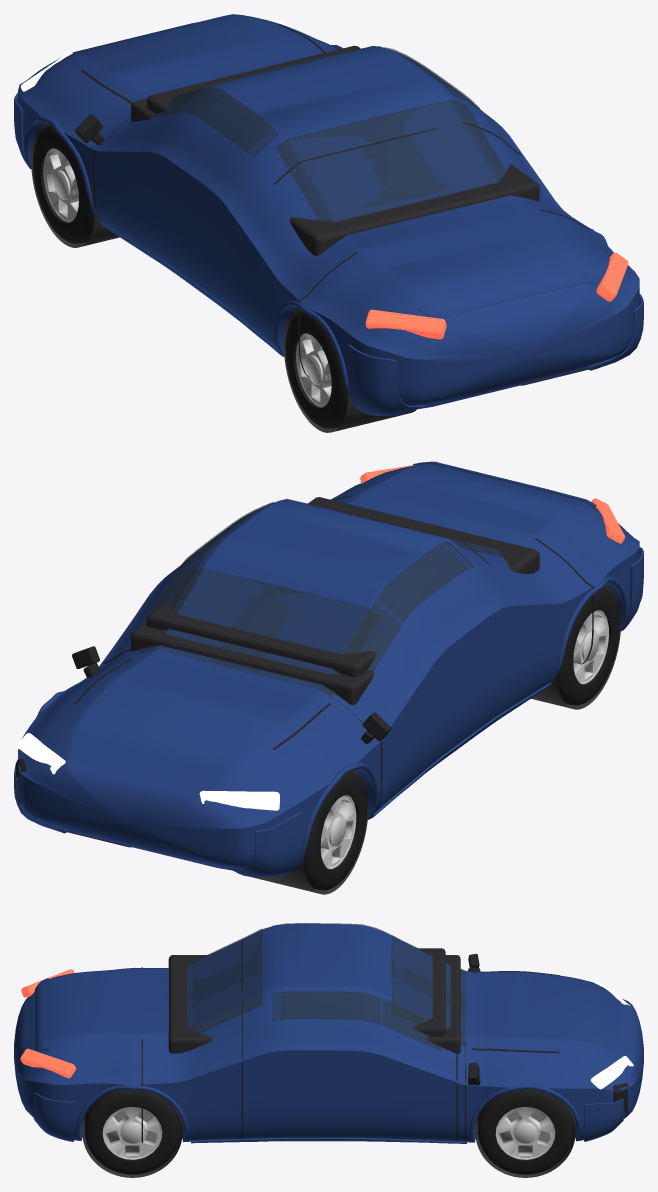
File: car.fbx
3 renders of one model, top to bottom at view 1: azimuth 30°, elevation 25°; view 2: azimuth 150°, elevation 25°; view 3: azimuth 270°, elevation 25°, orthographic. The views are drawn at different scales.
Parts seen in each view (by area): view 1: CAR_body, WHEEL_RL, WHEEL_FL; view 2: CAR_body, WHEEL_FL, WHEEL_RL; view 3: CAR_body, WHEEL_FR, WHEEL_RR.
Boxes of the visible parts, bbox=[...] form: CAR_body: bbox=[14, 14, 643, 432]; WHEEL_RL: bbox=[285, 311, 348, 428]; WHEEL_FL: bbox=[33, 125, 95, 243]; CAR_body: bbox=[14, 461, 643, 894]; WHEEL_FL: bbox=[304, 772, 366, 890]; WHEEL_RL: bbox=[557, 588, 619, 705]; CAR_body: bbox=[14, 923, 643, 1177]; WHEEL_FR: bbox=[477, 1089, 573, 1174]; WHEEL_RR: bbox=[84, 1089, 180, 1174].
Bounding box in the file's own units: 1.99 × 1.33 × 4.42.
